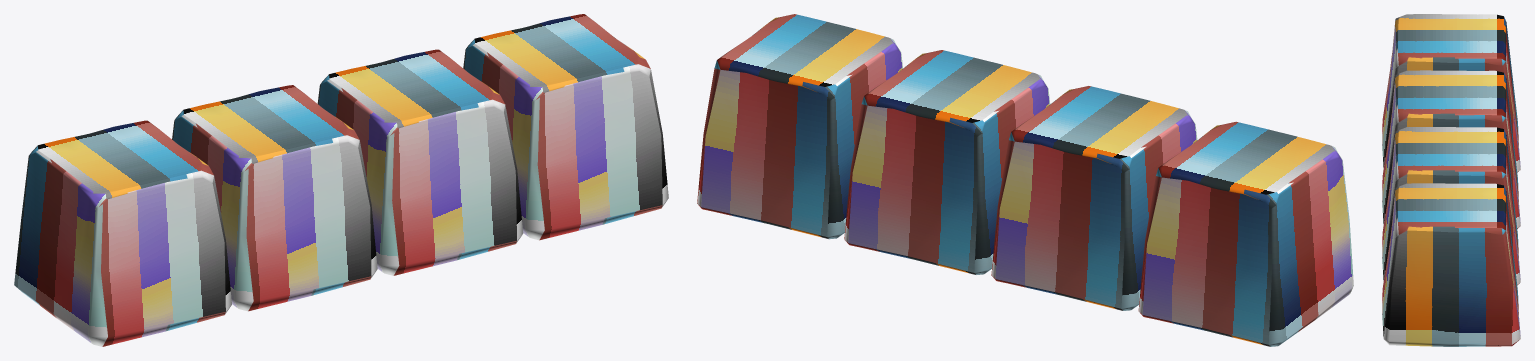
The model's file is CharSkyKid_Prop_SequencerAnni.glb.
3 views of the same model, side by side, from view 1: azimuth 30°, elevation 25°; view 2: azimuth 150°, elevation 25°; view 3: azimuth 270°, elevation 25° (orthographic). The views are drawn at different scales.
Visible parts, largest first — view 1: CharSkyKid_Prop_SequencerAnni; view 2: CharSkyKid_Prop_SequencerAnni; view 3: CharSkyKid_Prop_SequencerAnni.
Part boxes in pixels (x1,y1,x2,y2): CharSkyKid_Prop_SequencerAnni: [14, 14, 668, 346]; CharSkyKid_Prop_SequencerAnni: [697, 14, 1353, 346]; CharSkyKid_Prop_SequencerAnni: [1382, 14, 1520, 346].
Size of the model in its own units: 14.34 by 3.45 by 3.74.
Materials: 1 (1 with a texture image).
